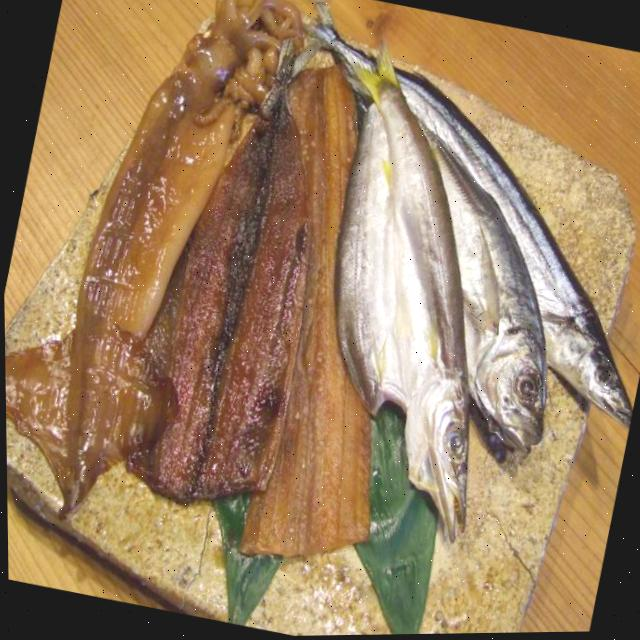熟制海鲜: (122, 17, 459, 609)
